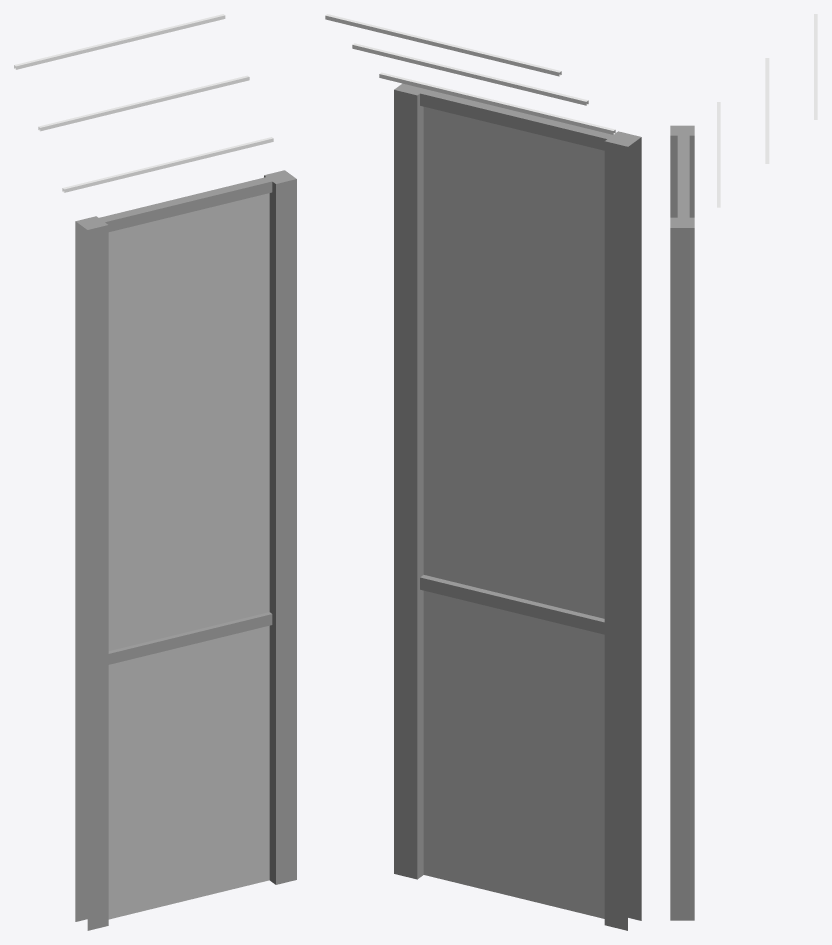
3 renders of one model, left to right at view 1: azimuth 30°, elevation 25°; view 2: azimuth 150°, elevation 25°; view 3: azimuth 270°, elevation 25°, orthographic. The views are drawn at different scales.
Parts seen in each view (by area): view 1: SM_Grid_100; view 2: SM_Grid_100; view 3: SM_Grid_100.
Part boxes in pixels (left/top/right/bottom): SM_Grid_100: left=14, top=14, right=296, bottom=930; SM_Grid_100: left=325, top=14, right=641, bottom=930; SM_Grid_100: left=670, top=14, right=817, bottom=920.
Size of the model in its own units: 100 by 60.79 by 371.
